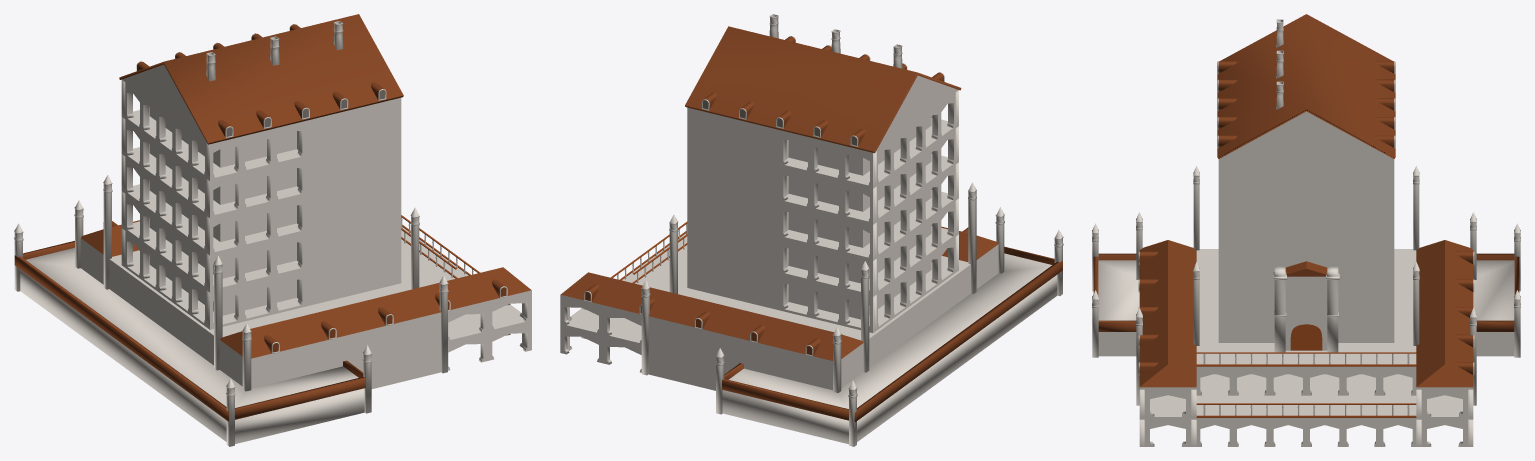
File: Castle Main Palaces_4.glb
3 views of the same model, side by side, from view 1: azimuth 30°, elevation 25°; view 2: azimuth 150°, elevation 25°; view 3: azimuth 270°, elevation 25° (orthographic). The views are drawn at different scales.
Visible parts, largest first — view 1: Root; view 2: Root; view 3: Root.
Part boxes in pixels (<box>): Root: <box>14,14,531,446</box>; Root: <box>560,14,1063,446</box>; Root: <box>1092,14,1520,446</box>.
Size of the model in its own units: 42.73 by 38.2 by 48.78.
